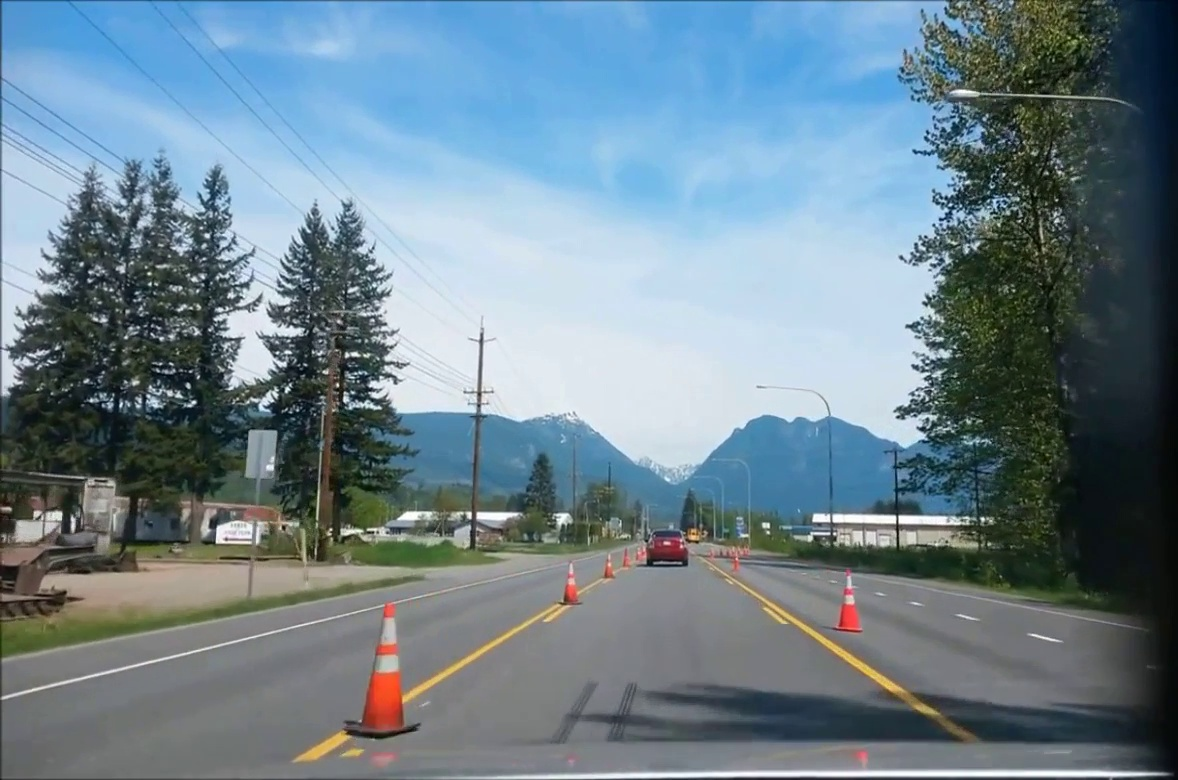Cone: (364, 600, 409, 731), (837, 566, 860, 633), (560, 560, 579, 601)
